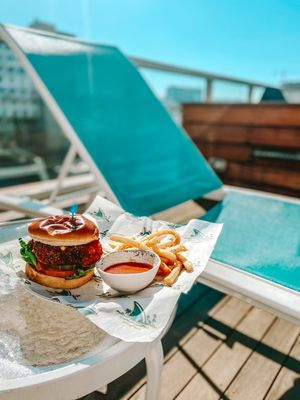soup: (18, 214, 103, 290)
sushi: (94, 249, 160, 294)
